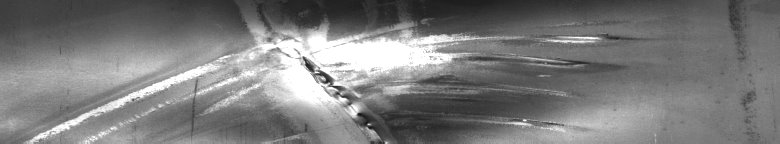ke: (37, 12, 640, 136)
